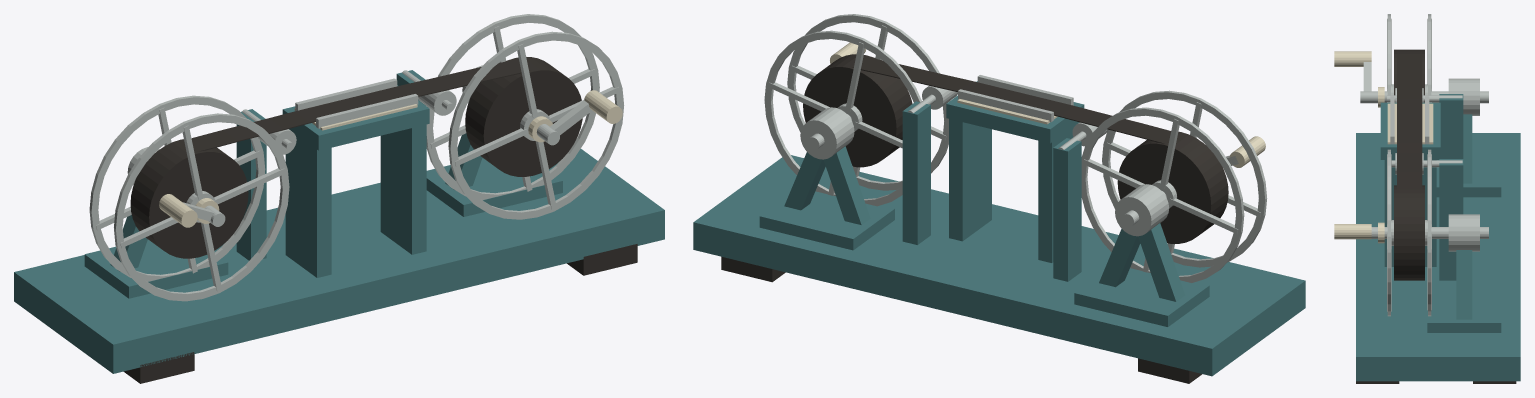
The picture shows the model from 3 angles, left to right: view 1: azimuth 30°, elevation 25°; view 2: azimuth 150°, elevation 25°; view 3: azimuth 270°, elevation 25°; orthographic projection. The views are drawn at different scales.
Visible parts, largest first — view 1: WholeLongCommonBenchBed, WholeStoredFilmExterior_Left, WholeStoredFilmExterior_Right, WholeInspectionBridgeLeg_Left, WholeInspectionBridgeLeg_Right, WholeOpenFlangeRim_LeftNear, WholeOpenFlangeRim_RightNear, WholeContinuousExposedInspectionRibbon, WholeOpenFlangeRim_LeftFar, WholeOpenFlangeRim_RightFar, WholeBearingPedestalSole_Left, WholeBearingPedestalSole_Right (+18 smaller); view 2: WholeLongCommonBenchBed, WholeStoredFilmExterior_Left, WholeStoredFilmExterior_Right, WholeInspectionBridgeLeg_Right, WholeBearingPedestalSole_Right, WholeBearingPedestalSole_Left, WholeContinuousExposedInspectionRibbon, WholeFilmGuidePedestal_Left, WholeFilmGuidePedestal_Right, WholeOpenFlangeRim_LeftFar, WholeOpenFlangeRim_LeftNear, WholeOpenFlangeRim_RightFar (+16 smaller); view 3: WholeLongCommonBenchBed, WholeContinuousExposedInspectionRibbon, WholeBearingPedestalSole_Right, WholeStoredFilmExterior_Right, WholeFilmGuidePedestal_Right, WholeBearingPedestalSole_Left, WholeFilmGuidePedestal_Left, WholeInspectionBridgeLeg_Right, WholeOpenBearingLeg_Right1, WholeBearingBoss_Right, WholeInspectionBridgeBody, WholeBearingBoss_Left (+16 smaller).
Boxes of the visible parts, x1,y1,x2,y2 form: WholeLongCommonBenchBed: (14,149,664,373); WholeStoredFilmExterior_Left: (130,139,248,258); WholeStoredFilmExterior_Right: (465,57,582,176); WholeInspectionBridgeLeg_Left: (285,129,331,277); WholeInspectionBridgeLeg_Right: (380,124,426,254); WholeOpenFlangeRim_LeftNear: (114,113,289,301); WholeOpenFlangeRim_RightNear: (448,31,624,219); WholeContinuousExposedInspectionRibbon: (182,59,530,151); WholeOpenFlangeRim_LeftFar: (89,95,265,281); WholeOpenFlangeRim_RightFar: (426,14,599,200); WholeBearingPedestalSole_Left: (84,239,228,298); WholeBearingPedestalSole_Right: (426,158,562,216); WholeLongCommonBenchBed: (693,155,1305,376); WholeStoredFilmExterior_Left: (1117,131,1228,243); WholeStoredFilmExterior_Right: (803,54,912,167); WholeInspectionBridgeLeg_Right: (949,119,991,241); WholeBearingPedestalSole_Right: (759,191,894,250); WholeBearingPedestalSole_Left: (1074,268,1209,326); WholeContinuousExposedInspectionRibbon: (851,56,1179,143); WholeFilmGuidePedestal_Left: (1053,138,1081,281); WholeFilmGuidePedestal_Right: (902,101,930,244); WholeOpenFlangeRim_LeftFar: (1081,107,1244,282); WholeOpenFlangeRim_LeftNear: (1102,90,1267,267); WholeOpenFlangeRim_RightFar: (764,30,921,206); WholeLongCommonBenchBed: (1356,133,1520,381); WholeContinuousExposedInspectionRibbon: (1397,54,1422,189); WholeBearingPedestalSole_Right: (1427,282,1501,332); WholeStoredFilmExterior_Right: (1394,185,1424,280); WholeFilmGuidePedestal_Right: (1439,159,1463,280); WholeBearingPedestalSole_Left: (1436,147,1501,197); WholeFilmGuidePedestal_Left: (1439,94,1463,158); WholeInspectionBridgeLeg_Right: (1384,160,1436,266); WholeOpenBearingLeg_Right1: (1456,250,1472,319); WholeBearingBoss_Right: (1448,214,1479,251); WholeInspectionBridgeBody: (1380,102,1440,159); WholeBearingBoss_Left: (1448,78,1479,115).
Size of the model in its own units: 1.22 by 0.492 by 0.43.
